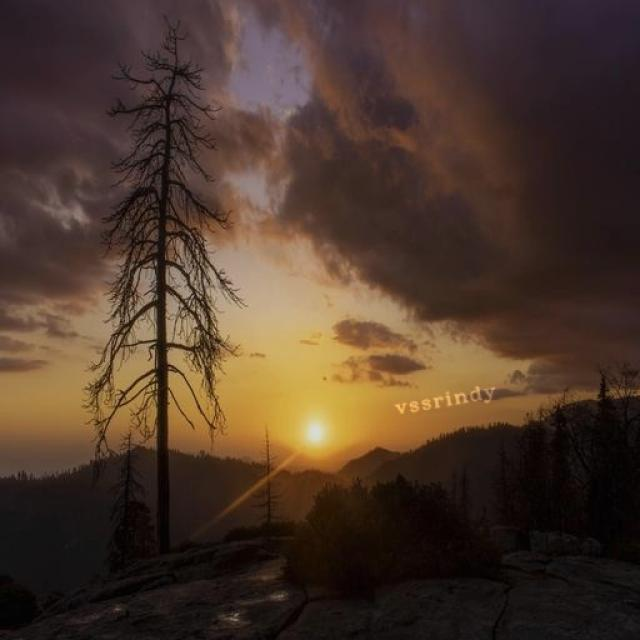watermark: (390, 381, 497, 416)
